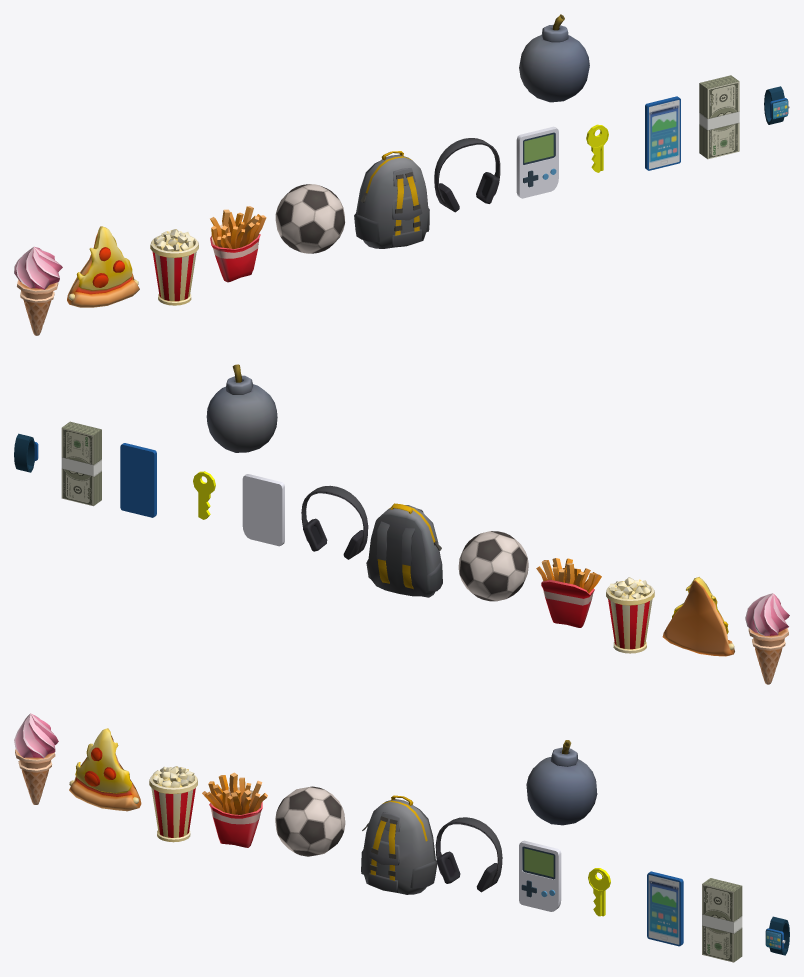
Rendered from items.fbx.
3 renders of one model, top to bottom at view 1: azimuth 30°, elevation 25°; view 2: azimuth 150°, elevation 25°; view 3: azimuth 330°, elevation 25°, orthographic.
Visible parts, largest first — view 1: backpack, bomb, ball, pizza, cash, fires, popcorn, gameboy, icecream, phone, headphones, smartwatch (+1 smaller); view 2: backpack, bomb, ball, pizza, cash, fires, popcorn, gameboy, phone, icecream, headphones, smartwatch (+1 smaller); view 3: backpack, bomb, ball, pizza, cash, fires, popcorn, gameboy, phone, icecream, headphones, smartwatch (+1 smaller).
Boxes of the visible parts, bbox=[...] form: backpack: bbox=[354, 151, 429, 248]; bomb: bbox=[519, 14, 589, 102]; ball: bbox=[275, 184, 345, 253]; pizza: bbox=[67, 226, 139, 307]; cash: bbox=[699, 75, 739, 159]; fires: bbox=[210, 206, 266, 282]; popcorn: bbox=[150, 229, 198, 305]; gameboy: bbox=[516, 126, 558, 198]; icecream: bbox=[14, 246, 62, 335]; phone: bbox=[645, 96, 680, 170]; headphones: bbox=[434, 138, 500, 212]; smartwatch: bbox=[764, 86, 789, 124]; backpack: bbox=[366, 503, 442, 597]; bomb: bbox=[206, 364, 277, 452]; ball: bbox=[458, 531, 528, 601]; pizza: bbox=[662, 577, 734, 656]; cash: bbox=[61, 421, 101, 506]; fires: bbox=[536, 558, 601, 627]; popcorn: bbox=[606, 577, 654, 653]; gameboy: bbox=[242, 474, 284, 546]; phone: bbox=[120, 443, 156, 517]; icecream: bbox=[745, 593, 789, 684]; headphones: bbox=[301, 485, 368, 559]; smartwatch: bbox=[14, 433, 38, 472]; backpack: bbox=[361, 795, 437, 894]; bomb: bbox=[526, 740, 597, 825]; ball: bbox=[275, 786, 345, 856]; pizza: bbox=[69, 728, 141, 811]; cash: bbox=[702, 878, 742, 962]; fires: bbox=[202, 772, 267, 847]; popcorn: bbox=[149, 766, 197, 842]; gameboy: bbox=[519, 840, 561, 911]; phone: bbox=[647, 871, 683, 946]; icecream: bbox=[14, 713, 58, 804]; headphones: bbox=[435, 817, 502, 892]; smartwatch: bbox=[765, 916, 789, 955].
Size of the model in its own units: 2.56 by 0.6097 by 0.2206.
5 materials, 5 textured.
